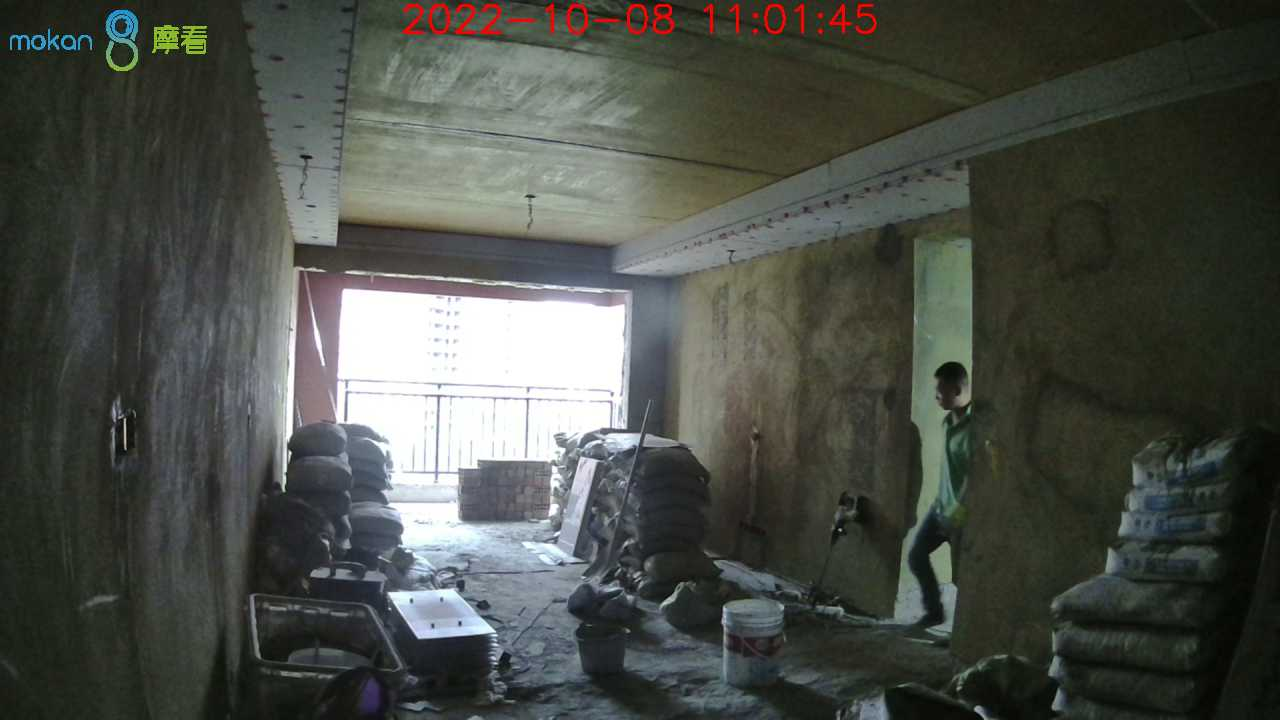people: (905, 359, 993, 643)
window: (321, 278, 634, 500)
